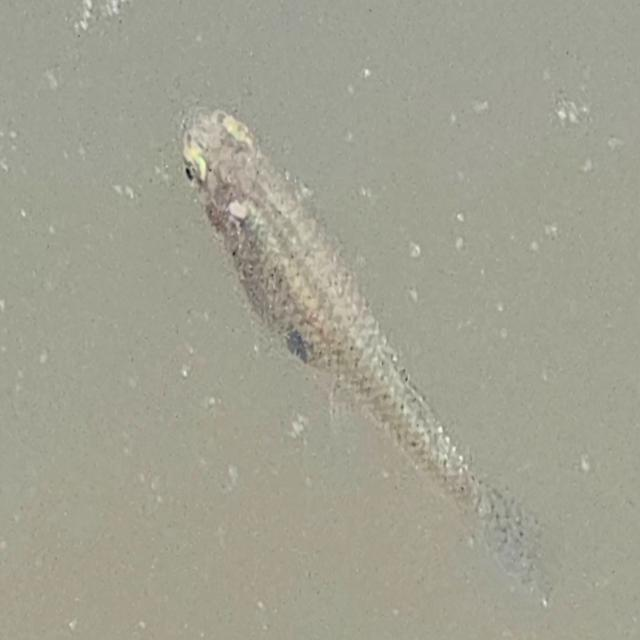Sivrisinek Baligi: (178, 103, 555, 610)
